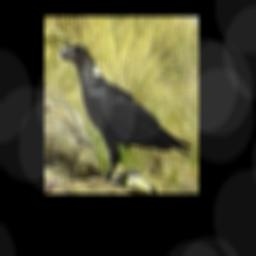Crow: (58, 42, 194, 184)
